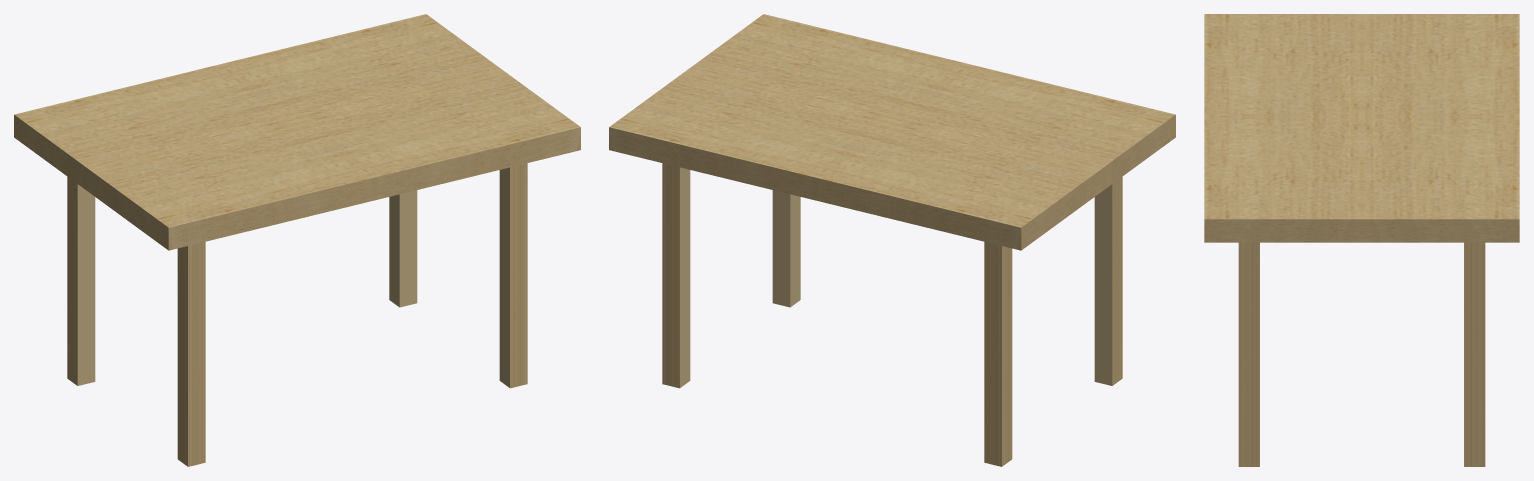
File: table.glb
3 views of the same model, side by side, from view 1: azimuth 30°, elevation 25°; view 2: azimuth 150°, elevation 25°; view 3: azimuth 270°, elevation 25° (orthographic). The views are drawn at different scales.
Visible parts, largest first — view 1: Cube; view 2: Cube; view 3: Cube.
Part boxes in pixels (x1,y1,x2,y2): Cube: (14,14,580,466); Cube: (609,14,1175,466); Cube: (1204,14,1519,466).
Bounding box in the file's own units: 3.08 × 1.86 × 2.
Materials: 1 (1 with a texture image).
